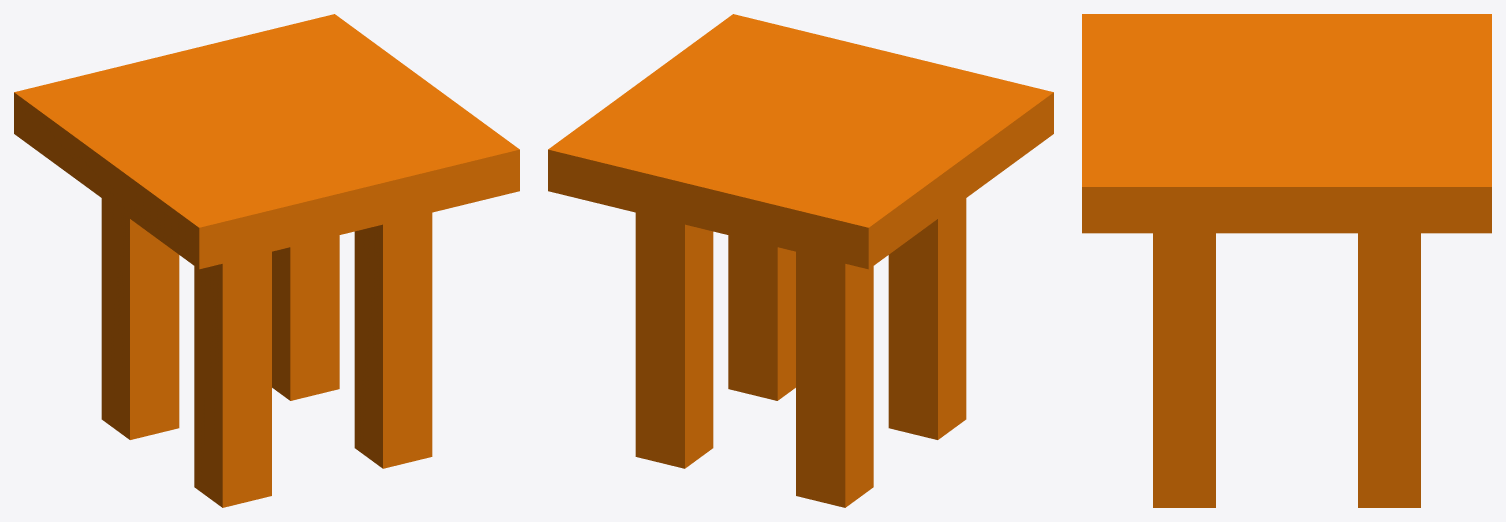
Rendered from Chair2.fbx.
3 renders of one model, left to right at view 1: azimuth 30°, elevation 25°; view 2: azimuth 150°, elevation 25°; view 3: azimuth 270°, elevation 25°, orthographic. The views are drawn at different scales.
Visible parts, largest first — view 1: Chair2; view 2: Chair2; view 3: Chair2.
Part boxes in pixels (left/top/right/bottom): Chair2: left=14, top=14, right=519, bottom=507; Chair2: left=548, top=14, right=1053, bottom=507; Chair2: left=1082, top=14, right=1491, bottom=507.
Bounding box in the file's own units: 1.71 × 1.71 × 1.61.
